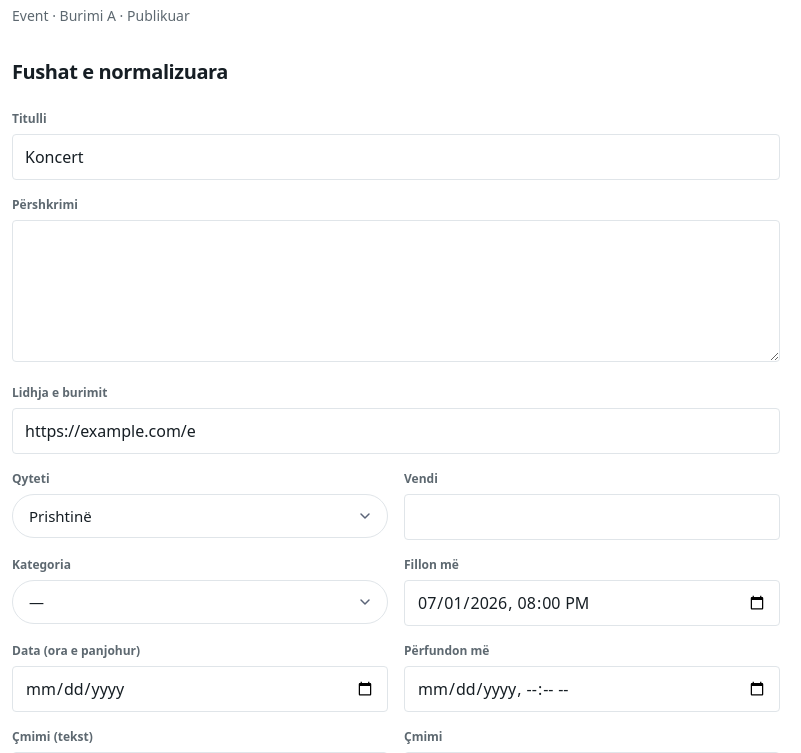
PublishedEditPage › shows the field error from a 400
In the field labelled "Titulli": (396, 157) [12,134,780,180], type "x"
(page scrolled)
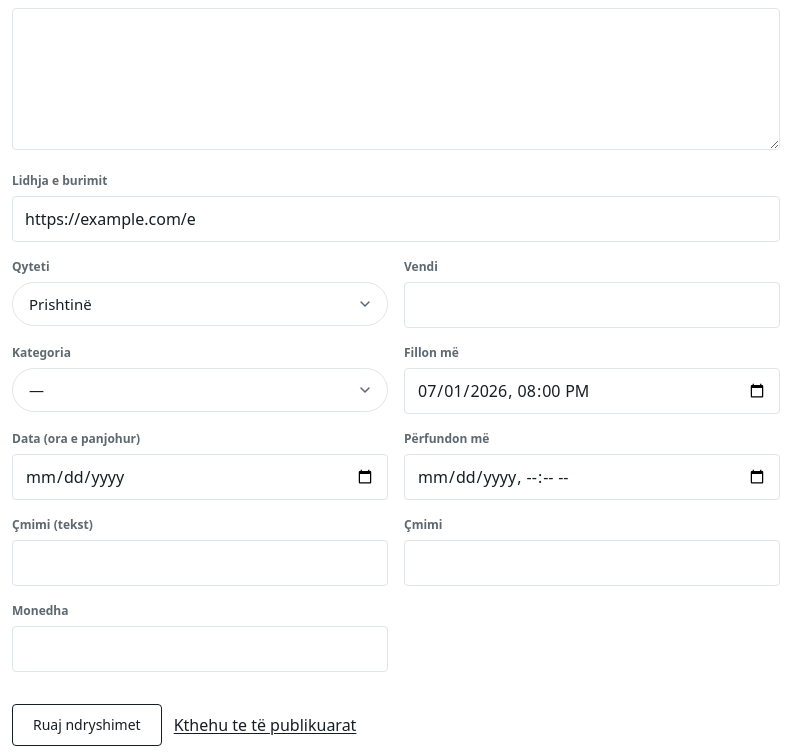
Click the button "Ruaj ndryshimet": (87, 725) [12,704,162,746]
(page scrolled)
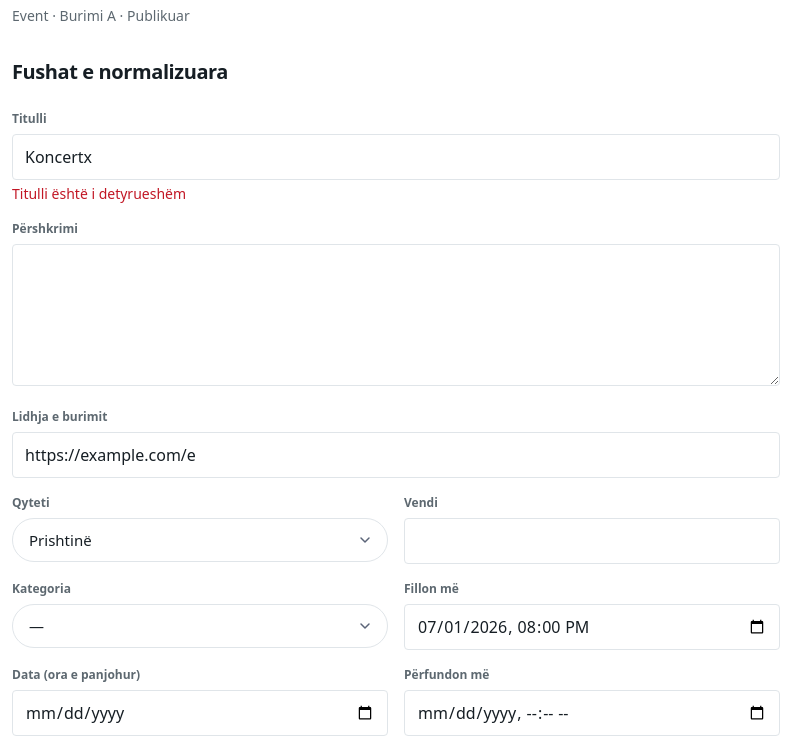
Expected: the text "Titulli është i detyrueshëm" is shown, [12,184,186,203]
